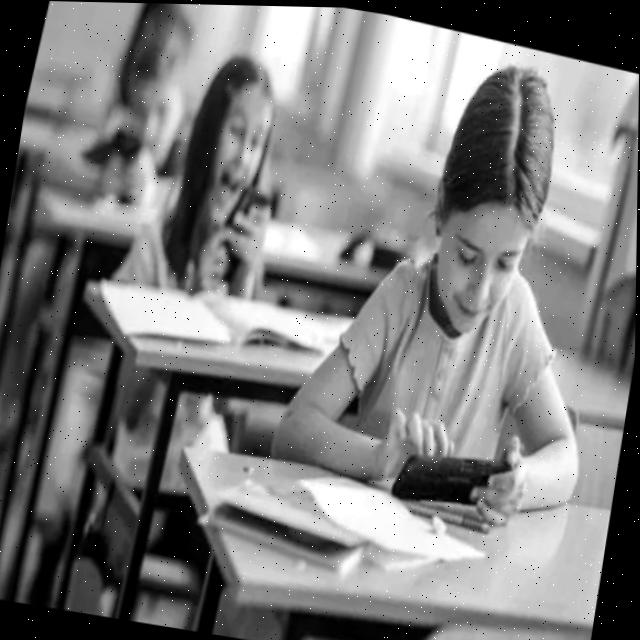phone: (390, 431, 517, 520), (214, 177, 277, 273), (109, 125, 144, 161)
